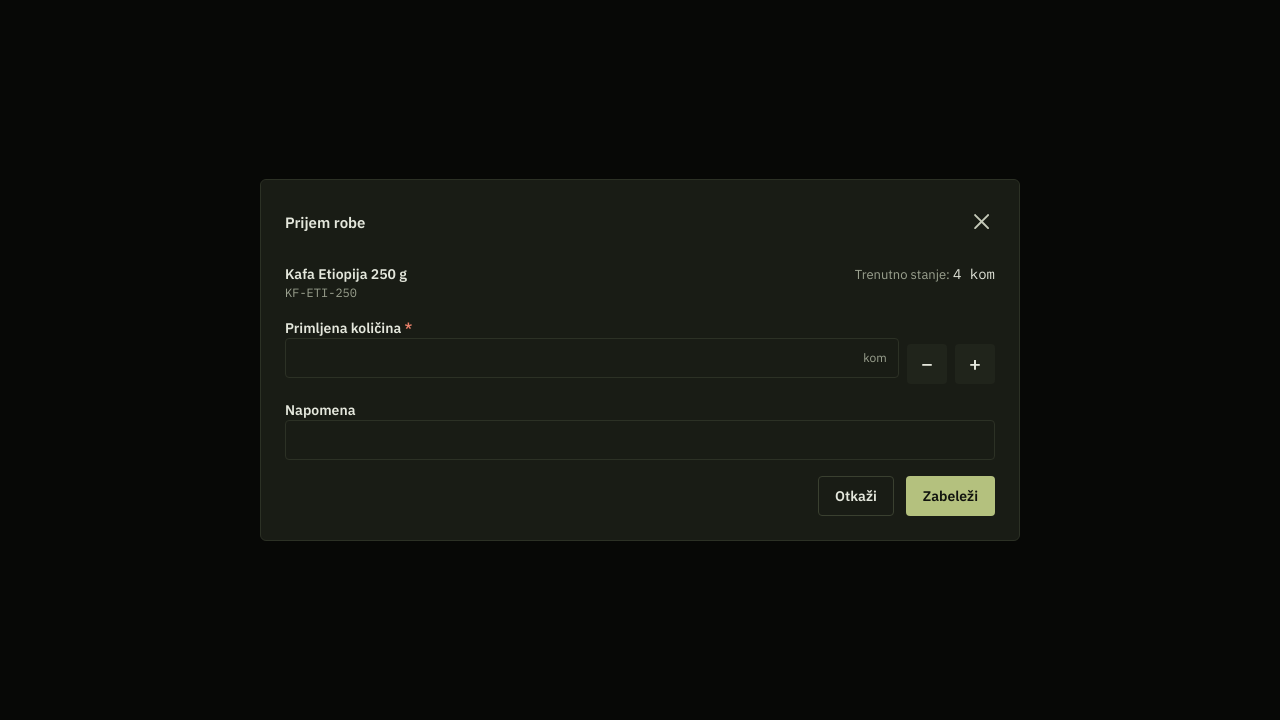
Test case: MovementModal › Submit_EmptyQuantity_ShowsRequiredWithoutCallingApi
Click the button "Zabeleži".
click(950, 496)  # box [906, 476, 995, 516]
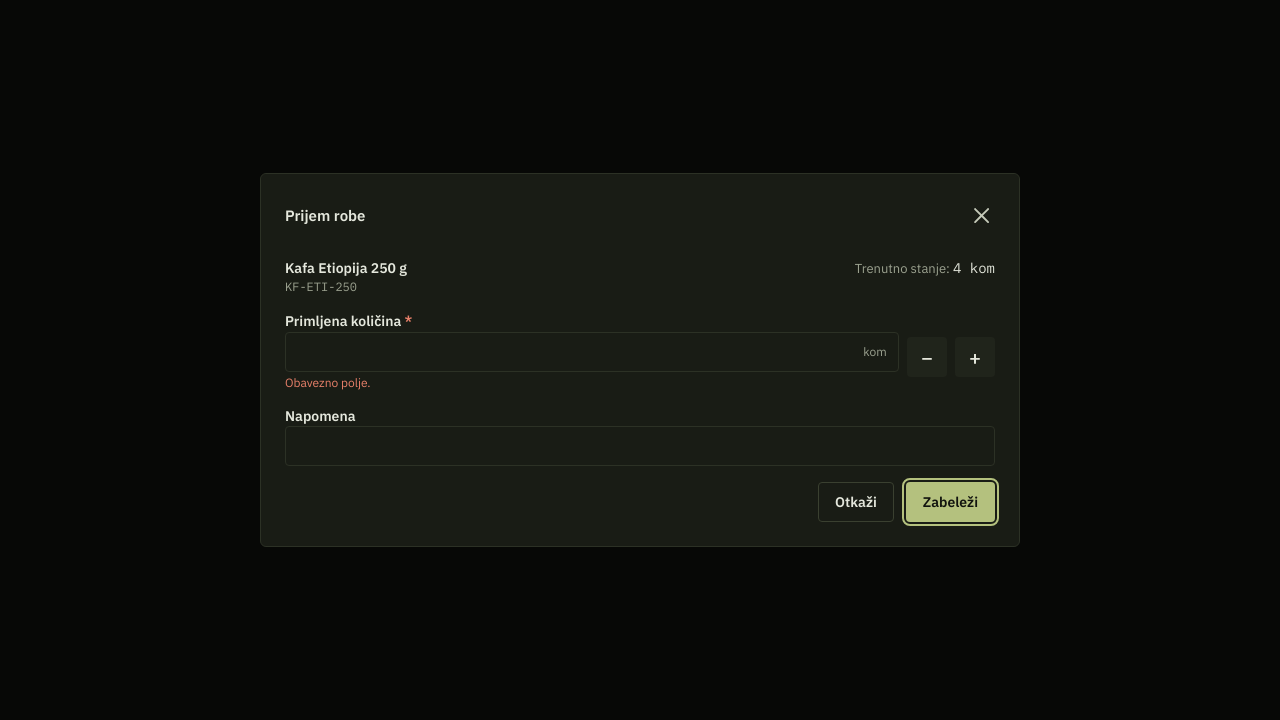
Now the text "Obavezno polje." is shown, box [285, 375, 371, 390]
